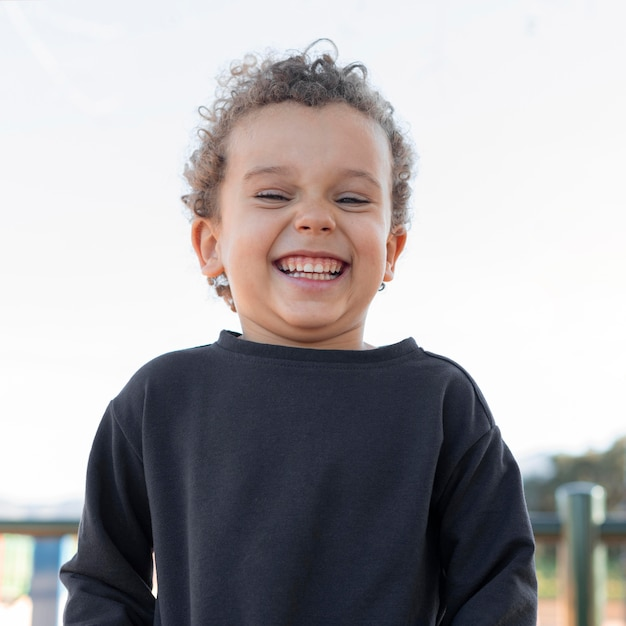teen: (195, 67, 424, 332)
